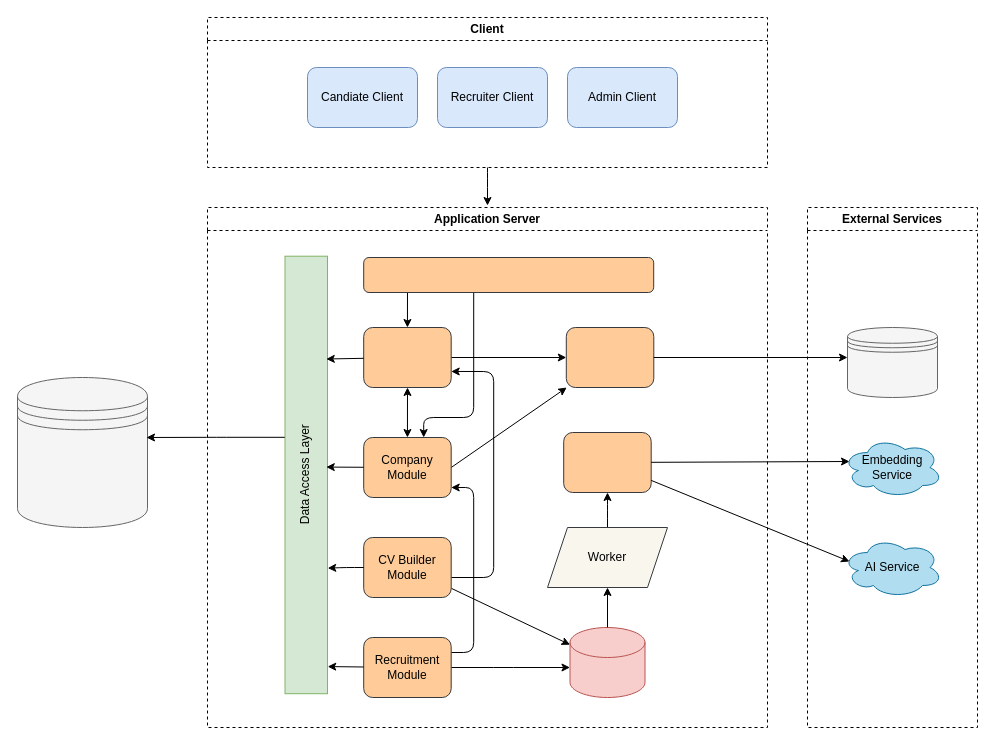
Image size: 995x745. Some labels were removed from this diagram. Here are the shapes that lost their labels. From the top down, the centre of each, then its label:
At (x=508, y=274): "Auth Module".
At (x=407, y=357): "User Module".
At (x=609, y=357): "Media Module".
At (x=892, y=362): "Media Storage Service".
At (x=82, y=452): "Database".
At (x=607, y=462): "AI Module".
At (x=607, y=662): "Job queue".
